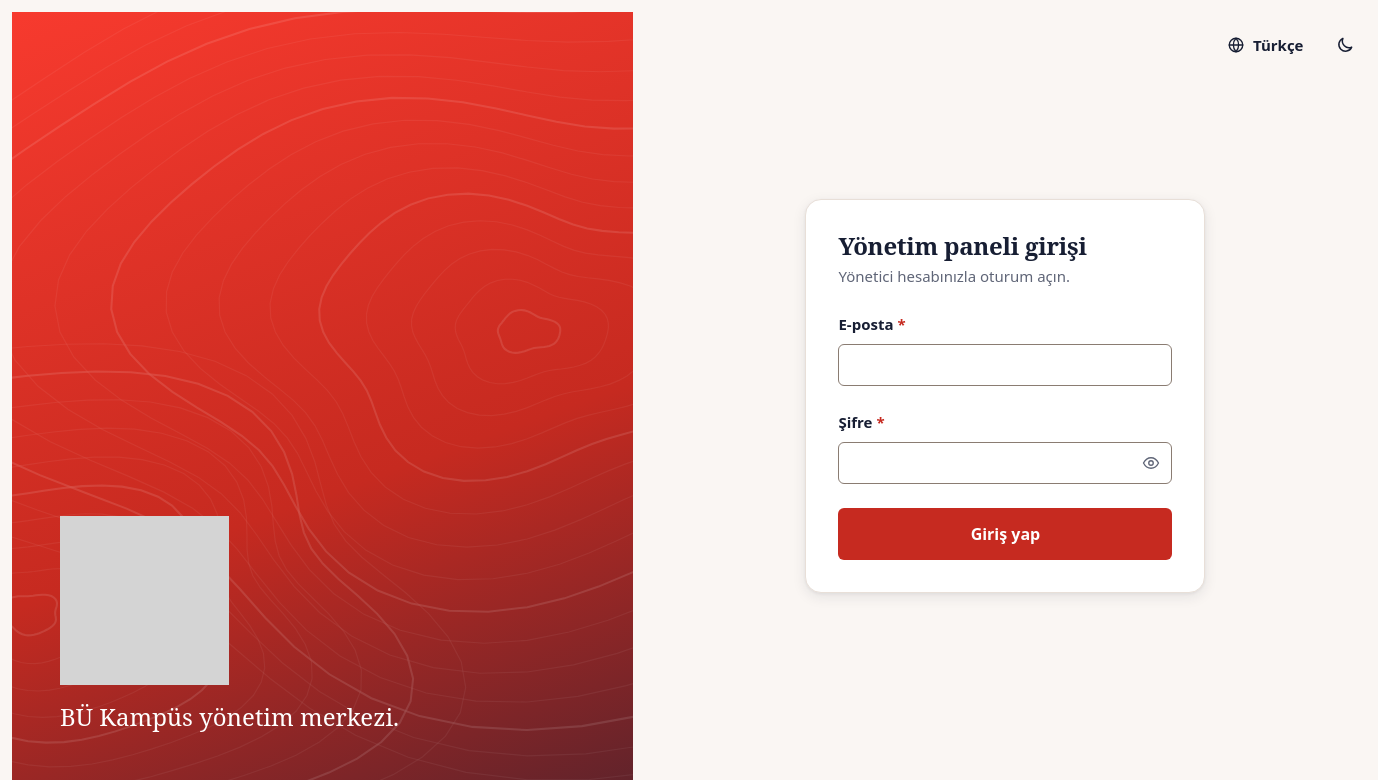
Test case: giriş sayfası › ADMIN olmayan hesapla girişte "yetkiniz yok" ekranı gelir
The width and height of the screenshot is (1378, 780).
In the field labelled "E-posta *": (1005,365) [838, 344, 1172, 386], type "ogr@ogr.bingol.edu.tr"
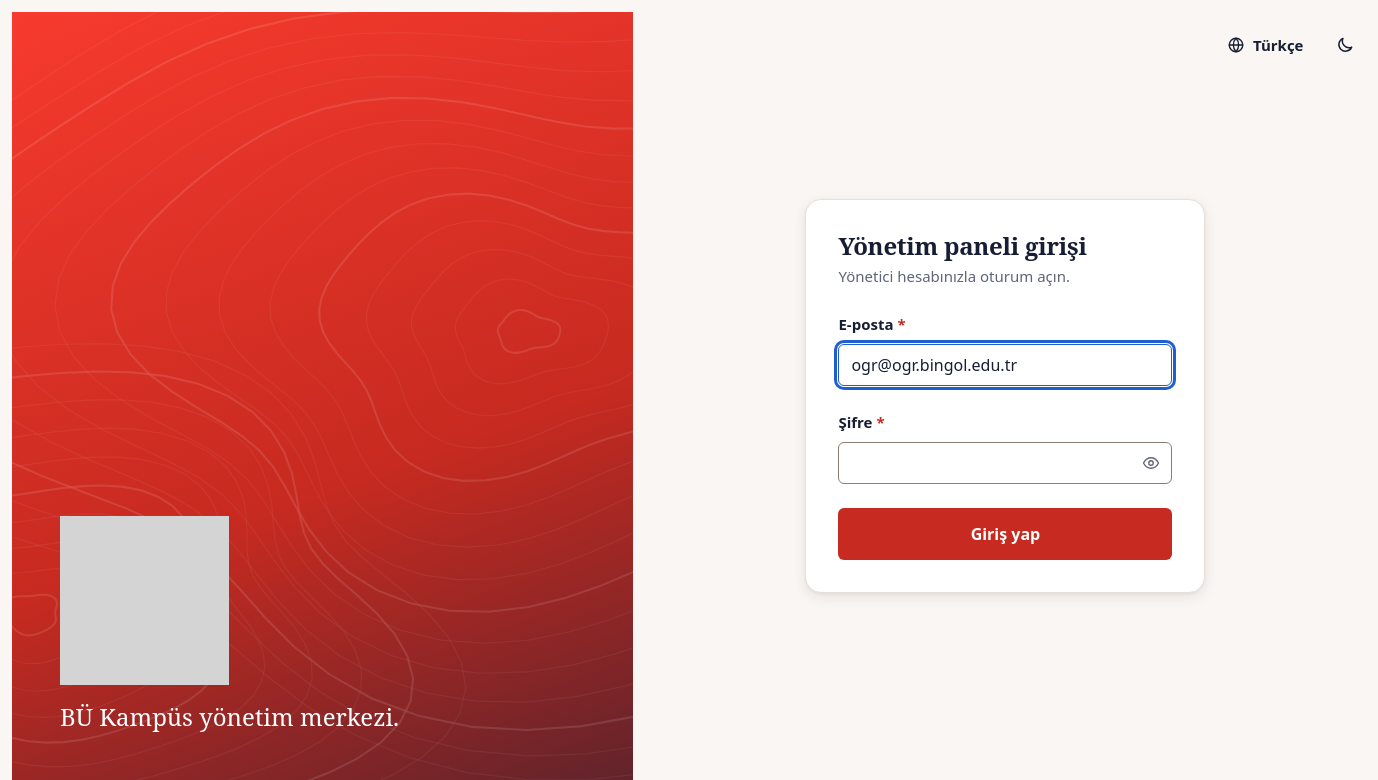
In the password field labelled "Şifre *": (1005,463) [838, 442, 1172, 484], type "sifre1234"
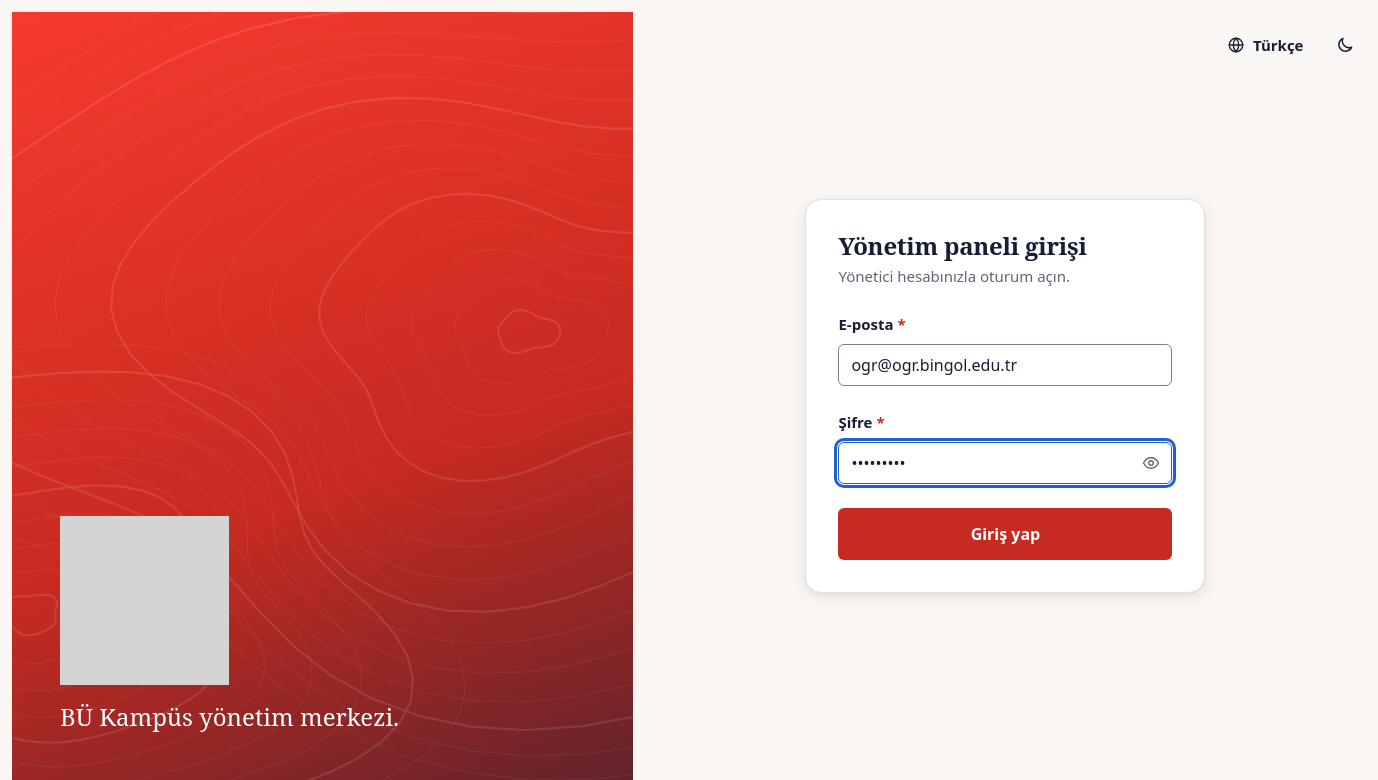
Click the button "Giriş yap": (1005,534) [838, 508, 1172, 560]
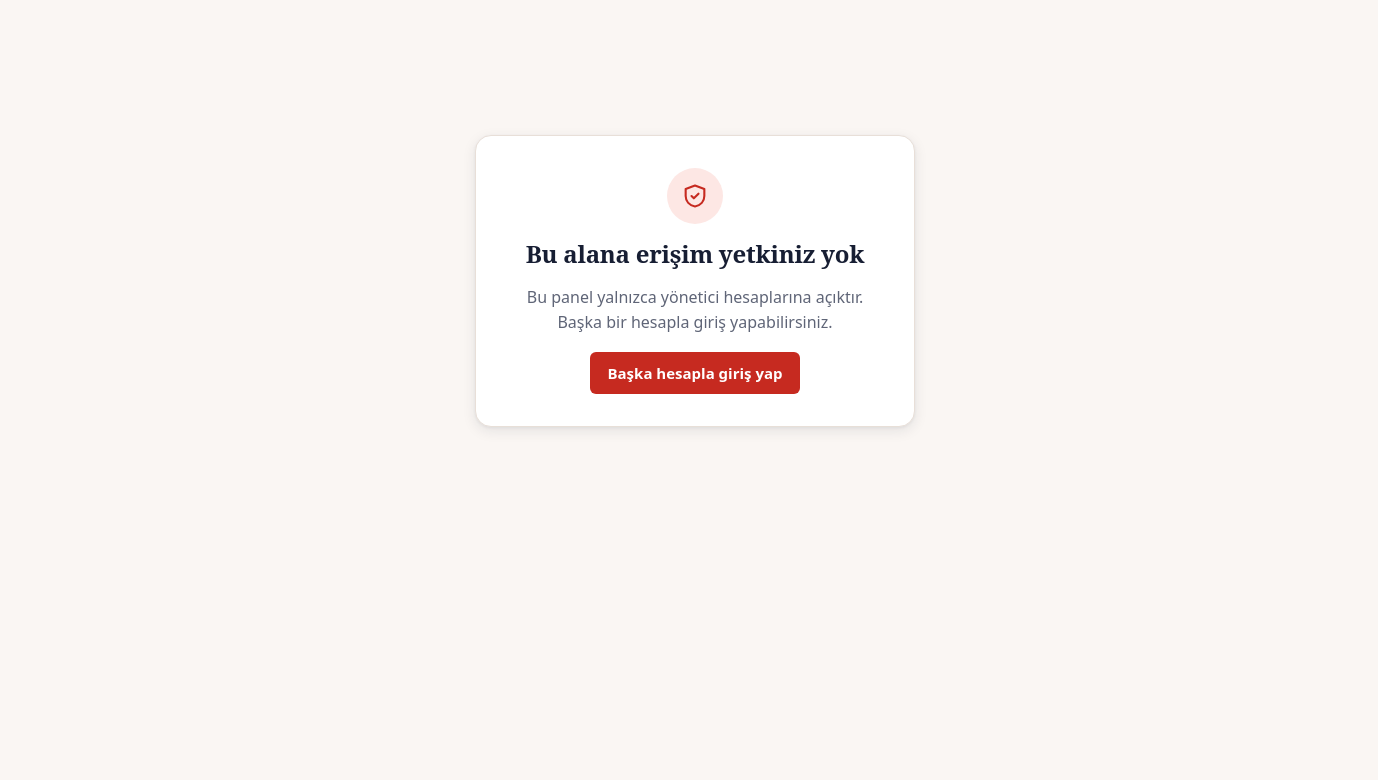
Expected: the heading "Bu alana erişim yetkiniz yok" is shown, [526, 240, 864, 269]
